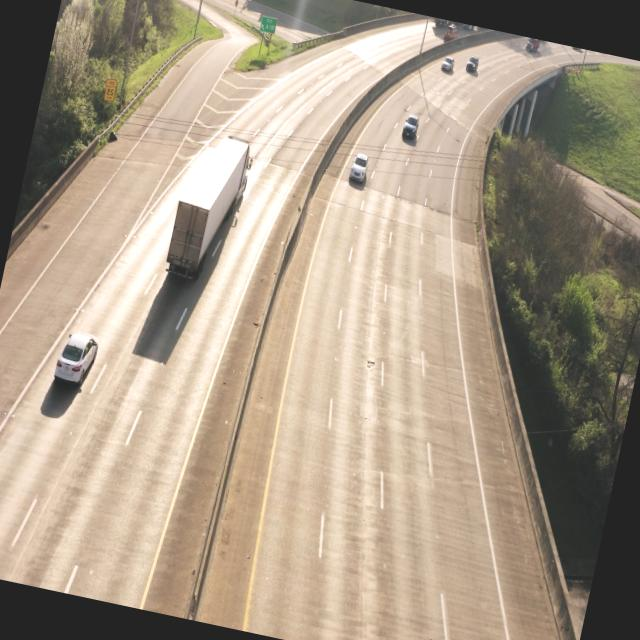Vehicle: (158, 125, 260, 291), (48, 322, 100, 397), (347, 148, 371, 190), (399, 110, 422, 147), (436, 53, 454, 76)
